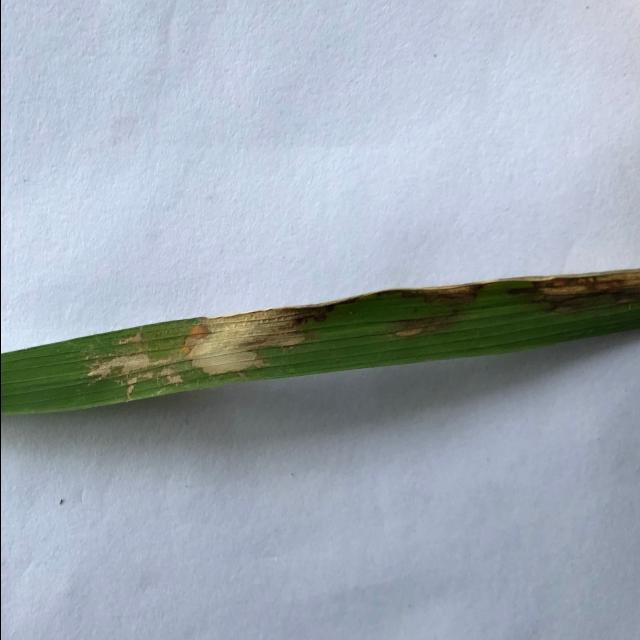Leaf Blight: (183, 294, 358, 376), (394, 267, 640, 310), (87, 352, 182, 401), (385, 327, 430, 337), (115, 334, 141, 345)
